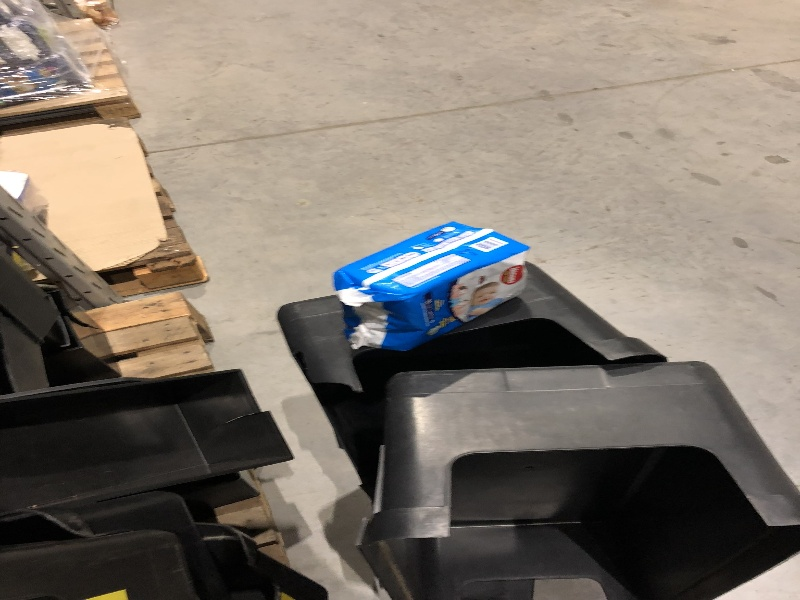fralda: (324, 224, 527, 350)
